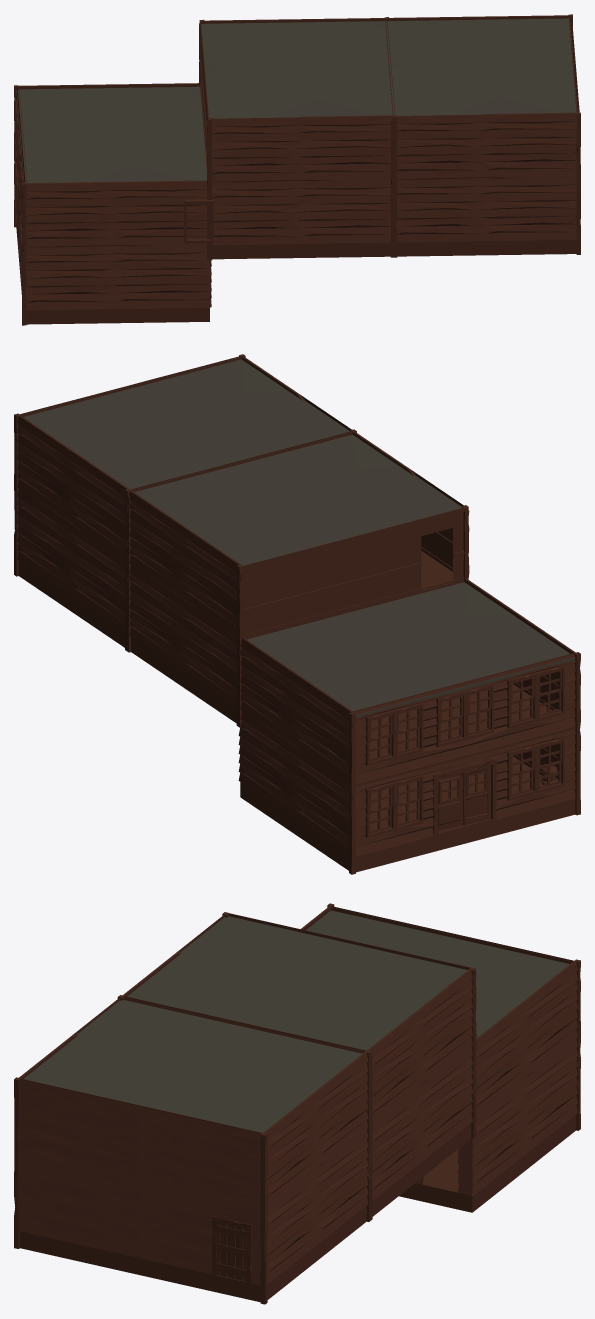
The model's file is shop.glb.
3 renders of one model, top to bottom at view 1: azimuth 30°, elevation 25°; view 2: azimuth 150°, elevation 25°; view 3: azimuth 270°, elevation 25°, orthographic. The views are drawn at different scales.
Parts seen in each view (by area): view 1: TechWarehouse; view 2: TechWarehouse; view 3: TechWarehouse.
Boxes of the visible parts, box(x1,y1,x2,y2) form: TechWarehouse: box(14, 14, 580, 325); TechWarehouse: box(14, 354, 580, 874); TechWarehouse: box(14, 903, 580, 1304).
Bounding box in the file's own units: 2.6 × 0.9643 × 2.03.
